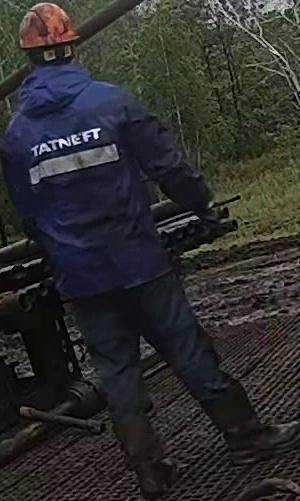helmet: (18, 1, 80, 50)
vest: (1, 62, 172, 300)
